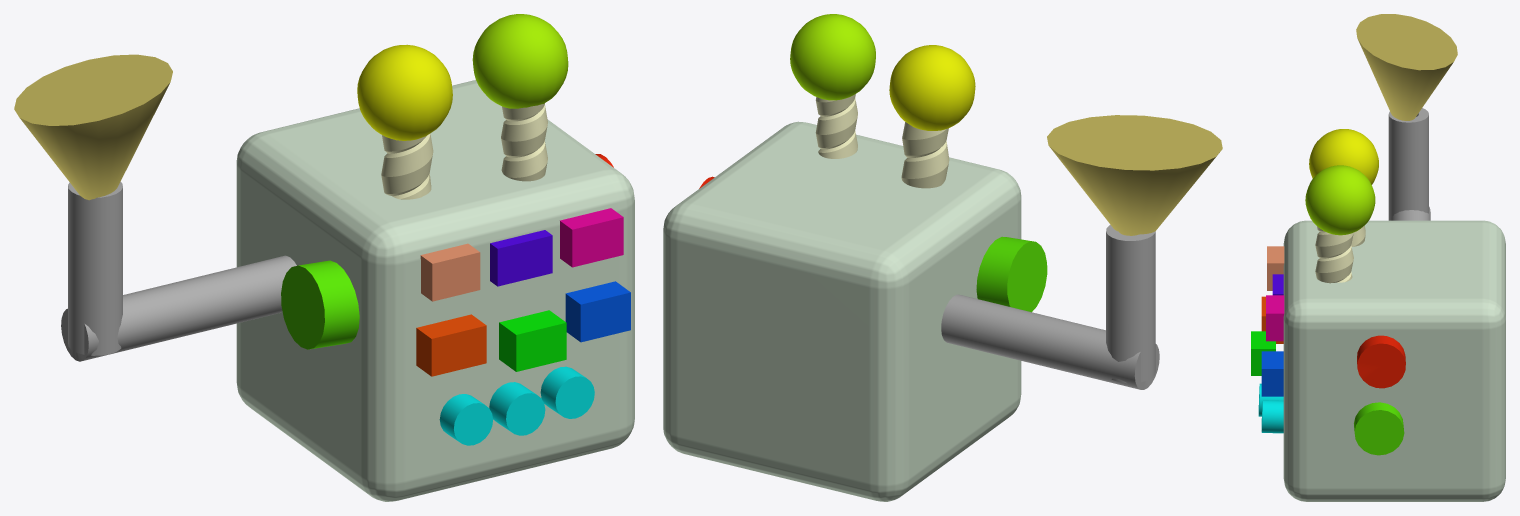
Rendered from experiment1.0.fbx.
3 views of the same model, side by side, from view 1: azimuth 30°, elevation 25°; view 2: azimuth 150°, elevation 25°; view 3: azimuth 270°, elevation 25° (orthographic). The views are drawn at different scales.
Parts seen in each view (by area): view 1: pCube1, pCone1, pPipe2, pPipe1, pSphere2, pSphere3, pCylinder7, pCube4, pCube3, pCube12, pHelix2, pCube13 (+6 smaller); view 2: pCube1, pCone1, pPipe2, pPipe1, pSphere3, pSphere2, pCylinder7, pHelix1, pHelix2; view 3: pCube1, pCone1, pPipe1, pSphere3, pSphere2, pCylinder4, pCylinder3, pHelix2, pCube12, pCube13, pCylinder6, pCube3 (+2 smaller).
Part boxes in pixels (x1,y1,x2,y2): pCube1: [236, 80, 634, 501]; pCone1: [14, 54, 172, 200]; pPipe2: [61, 255, 296, 361]; pPipe1: [68, 181, 122, 355]; pSphere2: [357, 44, 452, 140]; pSphere3: [472, 14, 568, 108]; pCylinder7: [281, 260, 359, 349]; pCube4: [416, 314, 486, 376]; pCube3: [499, 310, 566, 371]; pCube12: [565, 281, 630, 342]; pHelix2: [501, 103, 547, 181]; pCube13: [560, 208, 623, 267]; pCube1: [663, 121, 1021, 501]; pCone1: [1047, 115, 1222, 235]; pPipe2: [941, 294, 1159, 389]; pPipe1: [1106, 225, 1155, 383]; pSphere3: [790, 14, 875, 100]; pSphere2: [889, 45, 975, 130]; pCylinder7: [976, 236, 1047, 312]; pHelix1: [901, 122, 949, 188]; pHelix2: [815, 94, 857, 158]; pCube1: [1283, 220, 1505, 501]; pCone1: [1356, 14, 1457, 120]; pPipe1: [1388, 108, 1428, 220]; pSphere3: [1305, 165, 1375, 235]; pSphere2: [1309, 129, 1378, 184]; pCylinder4: [1354, 402, 1404, 455]; pCylinder3: [1357, 335, 1405, 388]; pHelix2: [1315, 226, 1353, 283]; pCube12: [1261, 351, 1283, 396]; pCube13: [1266, 295, 1284, 341]; pCylinder6: [1261, 400, 1283, 433]; pCube3: [1251, 331, 1275, 375].
Size of the model in its own units: 19.51 by 13.73 by 10.22.
